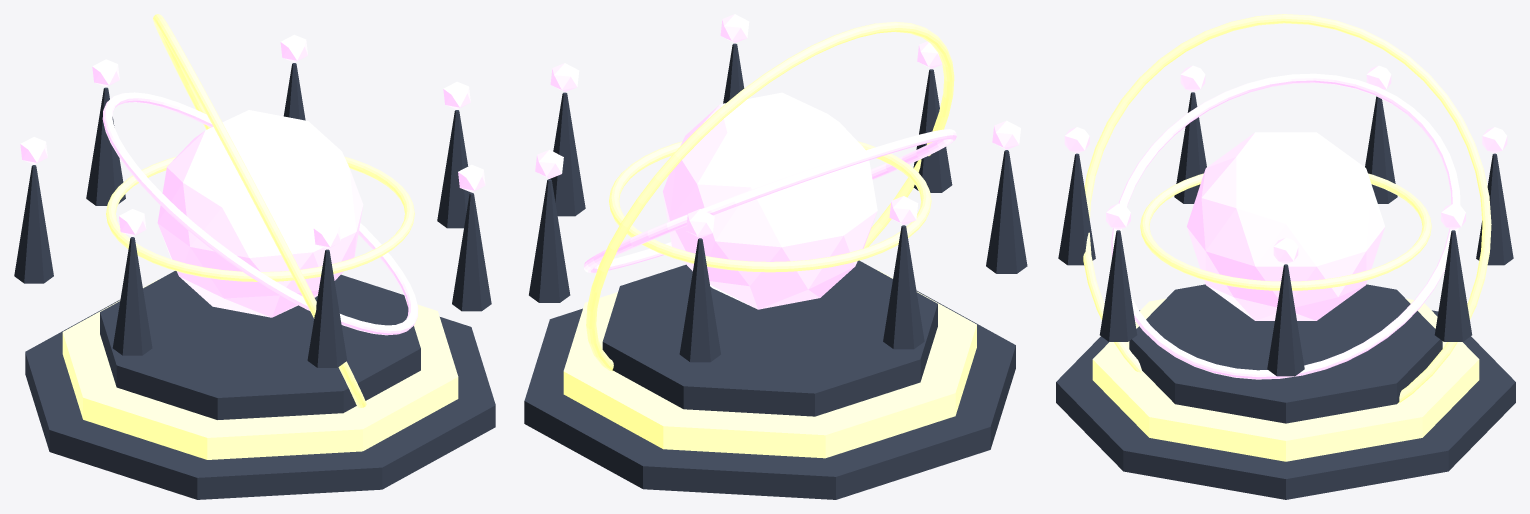
File: gpu-blender-v18.glb
The picture shows the model from 3 angles, left to right: view 1: azimuth 30°, elevation 25°; view 2: azimuth 150°, elevation 25°; view 3: azimuth 270°, elevation 25°; orthographic projection. The views are drawn at different scales.
Visible parts, largest first — view 1: Cylinder.002, SovereignCore_mcp-lens, Cylinder, Cylinder.001, Torus.001, Torus, Torus.002, Cone.006, Cone.003, Cone.004, Cone.005, Cone (+9 smaller); view 2: Cylinder.002, SovereignCore_mcp-lens, Cylinder, Cylinder.001, Torus.002, Torus.001, Torus, Cone.003, Cone.002, Cone.004, Cone.001, Cone (+8 smaller); view 3: SovereignCore_mcp-lens, Cylinder.002, Cylinder, Cylinder.001, Torus.002, Torus.001, Torus, Cone, Cone.001, Cone.006, Cone.005, Cone.002 (+8 smaller).
Boxes of the visible parts, x1=… form: Cylinder.002: x1=100, y1=271, x2=420, y2=419; SovereignCore_mcp-lens: x1=157, y1=110, x2=363, y2=317; Cylinder: x1=25, y1=299, x2=495, y2=499; Cylinder.001: x1=62, y1=279, x2=458, y2=459; Torus.001: x1=102, y1=92, x2=418, y2=335; Torus: x1=106, y1=156, x2=414, y2=281; Torus.002: x1=153, y1=14, x2=366, y2=407; Cone.006: x1=452, y1=193, x2=491, y2=311; Cone.003: x1=14, y1=165, x2=53, y2=283; Cone.004: x1=112, y1=237, x2=152, y2=355; Cone.005: x1=307, y1=249, x2=347, y2=367; Cone: x1=437, y1=110, x2=471, y2=228; Cylinder.002: x1=602, y1=260, x2=937, y2=416; SovereignCore_mcp-lens: x1=663, y1=92, x2=877, y2=309; Cylinder: x1=524, y1=290, x2=1015, y2=499; Cylinder.001: x1=563, y1=269, x2=976, y2=458; Torus.002: x1=586, y1=21, x2=954, y2=371; Torus.001: x1=584, y1=129, x2=956, y2=272; Torus: x1=609, y1=141, x2=931, y2=272; Cone.003: x1=883, y1=225, x2=924, y2=349; Cone.002: x1=679, y1=238, x2=720, y2=362; Cone.004: x1=986, y1=150, x2=1027, y2=273; Cone.001: x1=529, y1=179, x2=570, y2=302; Cone: x1=549, y1=92, x2=585, y2=216; SovereignCore_mcp-lens: x1=1186, y1=132, x2=1385, y2=320; Cylinder.002: x1=1129, y1=284, x2=1442, y2=423; Cylinder: x1=1056, y1=310, x2=1515, y2=499; Cylinder.001: x1=1092, y1=298, x2=1479, y2=461; Torus.002: x1=1083, y1=14, x2=1491, y2=403; Torus.001: x1=1111, y1=73, x2=1460, y2=379; Torus: x1=1140, y1=173, x2=1431, y2=290; Cone: x1=1267, y1=264, x2=1304, y2=376; Cone.001: x1=1434, y1=230, x2=1472, y2=341; Cone.006: x1=1099, y1=230, x2=1137, y2=341; Cone.005: x1=1058, y1=153, x2=1095, y2=265; Cone.002: x1=1476, y1=153, x2=1513, y2=265.
Size of the model in its own units: 4.41 by 3.72 by 4.4.
